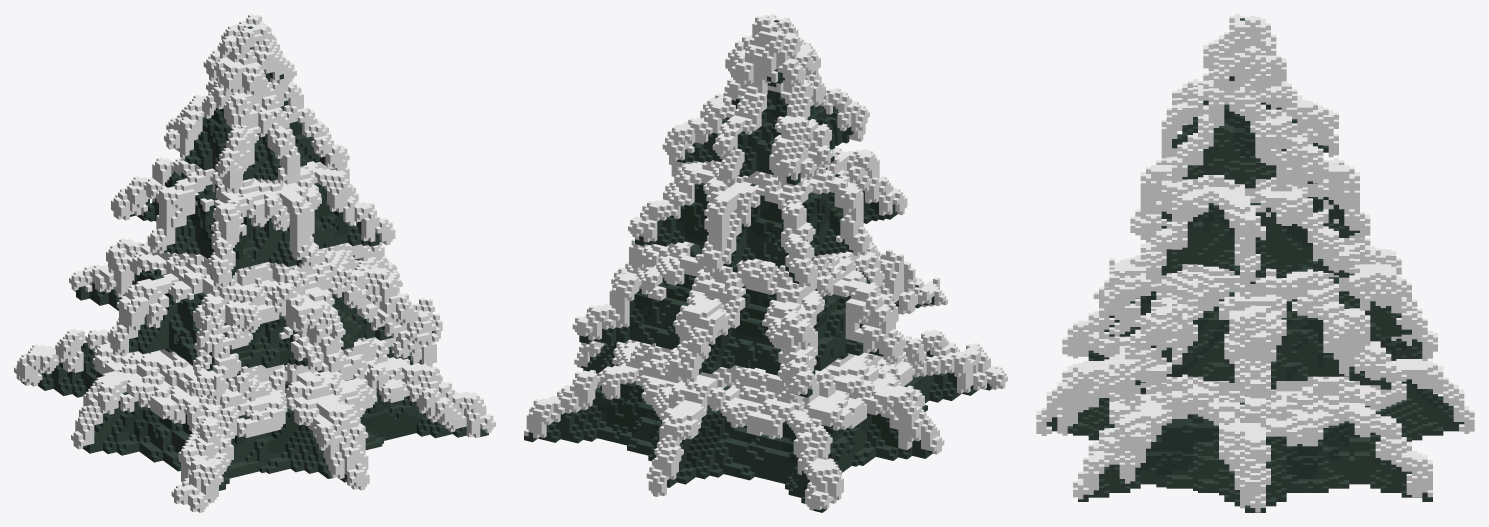
The model's file is TreeCrownSnow.obj.
The picture shows the model from 3 angles, left to right: view 1: azimuth 30°, elevation 25°; view 2: azimuth 150°, elevation 25°; view 3: azimuth 270°, elevation 25°; orthographic projection. The views are drawn at different scales.
Bounding box in the file's own units: 8.2 × 8.8 × 8.4.
1 material, 1 textured.
